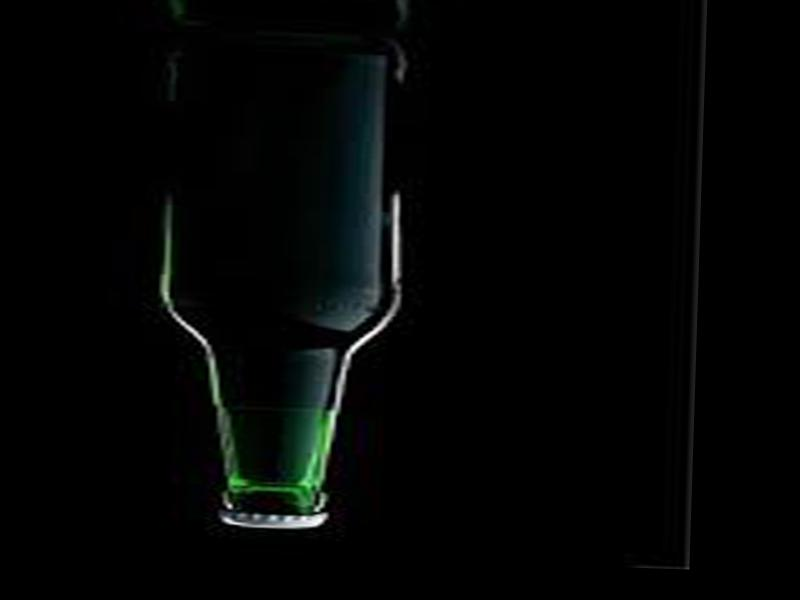Beer: (153, 37, 417, 533)
